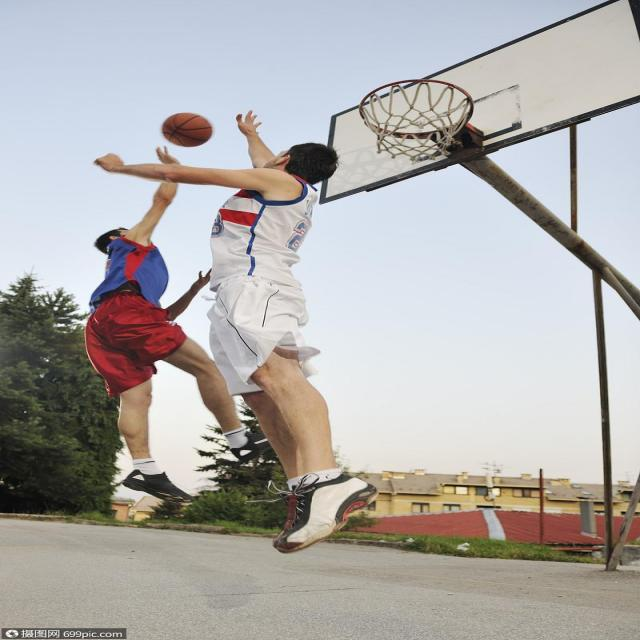rim: (162, 113, 214, 148)
